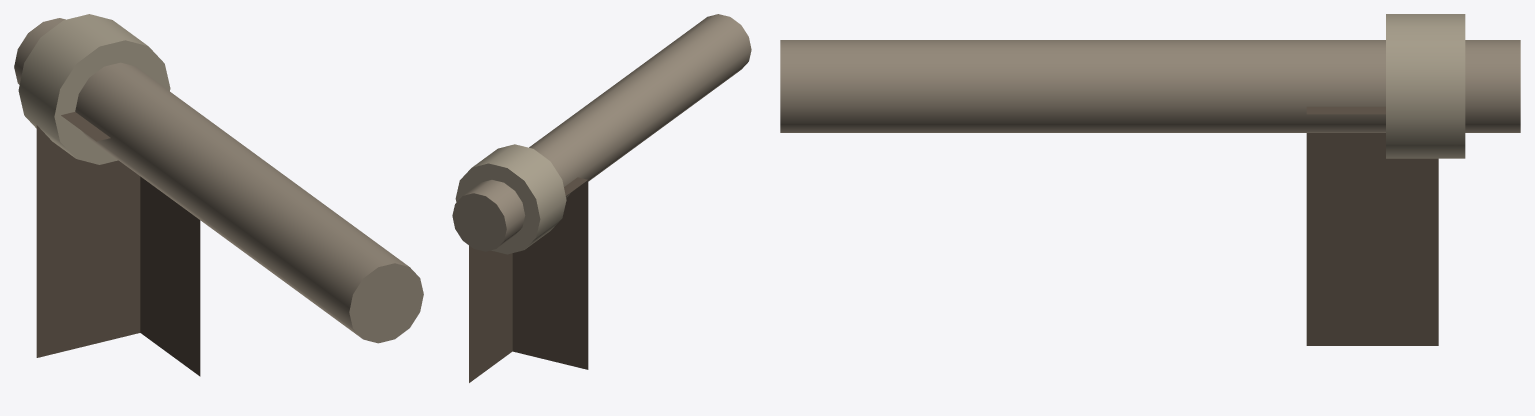
Rendered from rusty_revolver_static.glb.
3 renders of one model, left to right at view 1: azimuth 30°, elevation 25°; view 2: azimuth 150°, elevation 25°; view 3: azimuth 270°, elevation 25°, orthographic. The views are drawn at different scales.
Visible parts, largest first — view 1: rusty_revolver; view 2: rusty_revolver; view 3: rusty_revolver.
Part boxes in pixels (x1=…): rusty_revolver: x1=14, y1=14, x2=423, y2=376; rusty_revolver: x1=452, y1=14, x2=751, y2=382; rusty_revolver: x1=780, y1=14, x2=1520, y2=345.
Bounding box in the file's own units: 0.056 × 0.1473 × 0.28.
